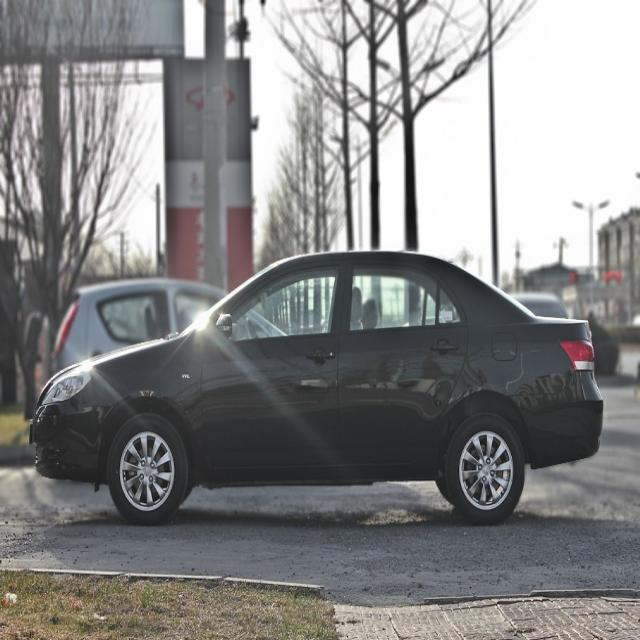back_left_side_light: (561, 338, 597, 374)
door: (346, 257, 469, 477)
front_bumper: (32, 405, 92, 484)
front_left_side_door: (197, 256, 351, 476)
front_left_side_light: (39, 366, 94, 408)
front_left_side_mirror: (213, 311, 235, 343)
rear_bumper: (528, 375, 604, 468)
wheel: (110, 411, 186, 523), (448, 415, 525, 525)
